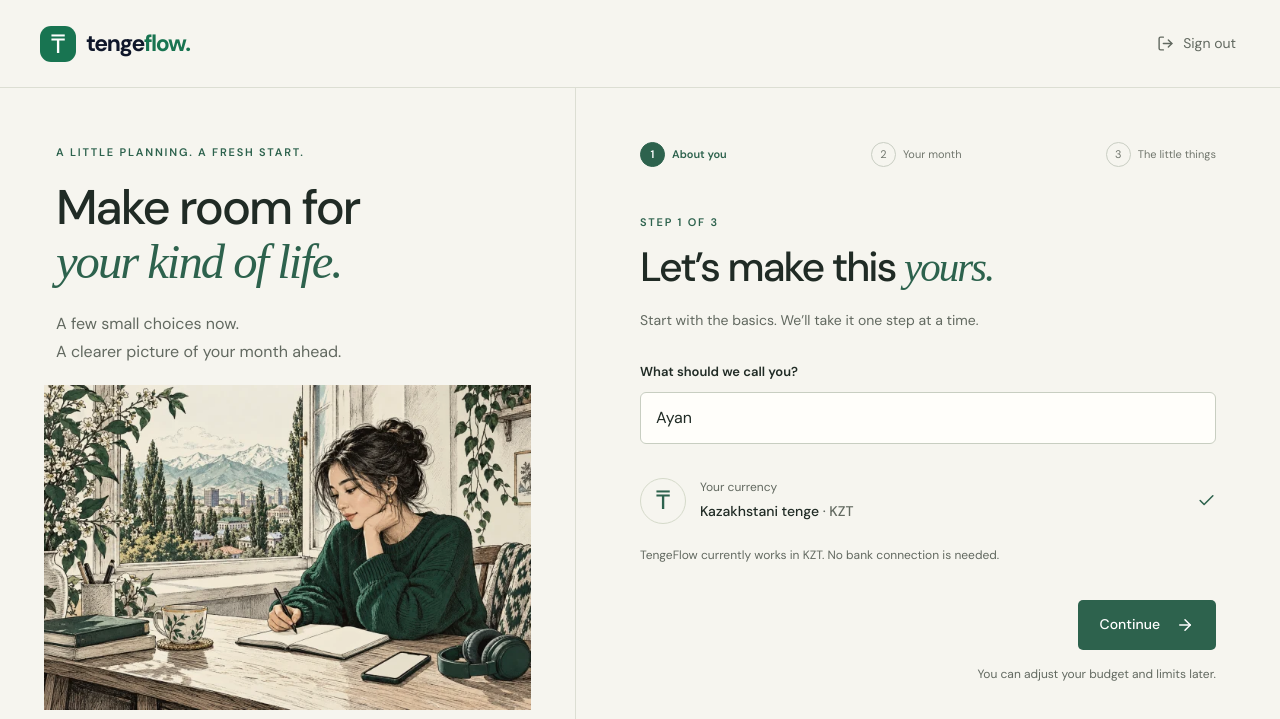
Test: retains the draft and the user's choices when saving fails
This screenshot has width=1280, height=719.
Click the button "Continue". click: [1147, 625]
box: [1078,600,1216,650]
(page scrolled)
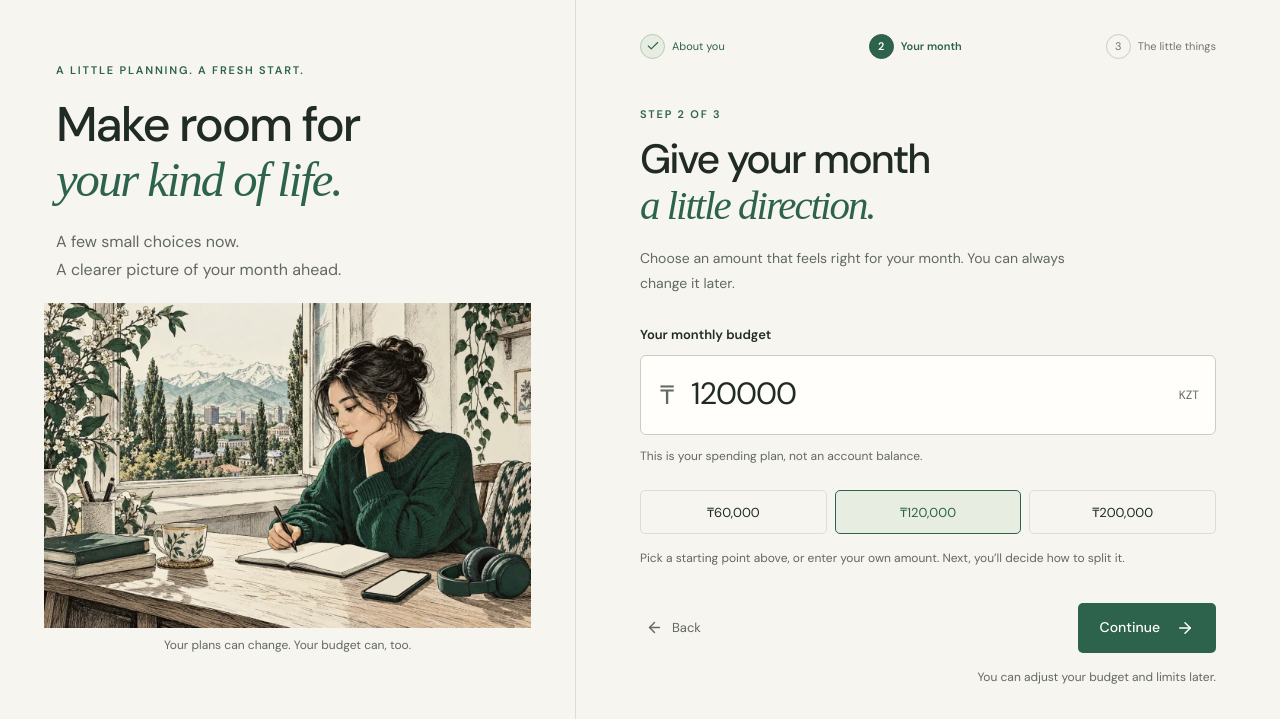
Click the button "Continue". click: [1147, 628]
box: [1078,603,1216,653]
(page scrolled)
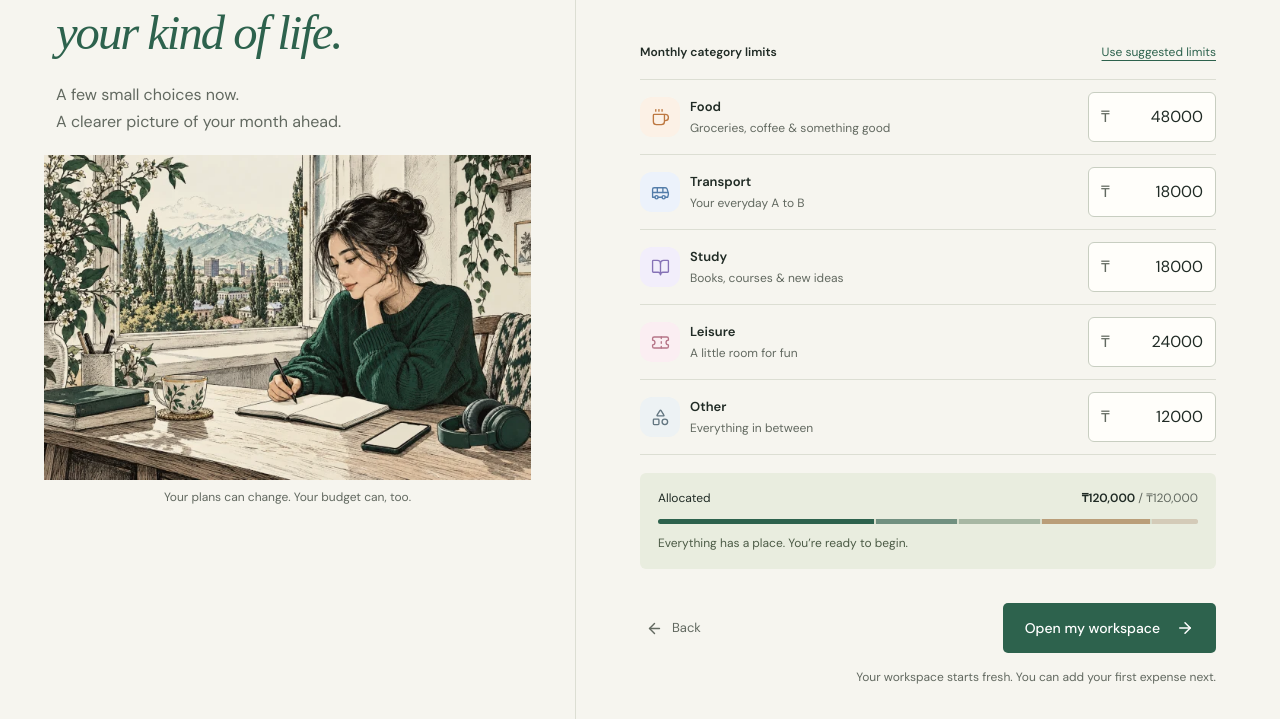
Click the button "Open my workspace". click: [1109, 628]
box: [1003,603,1216,653]
(page scrolled)
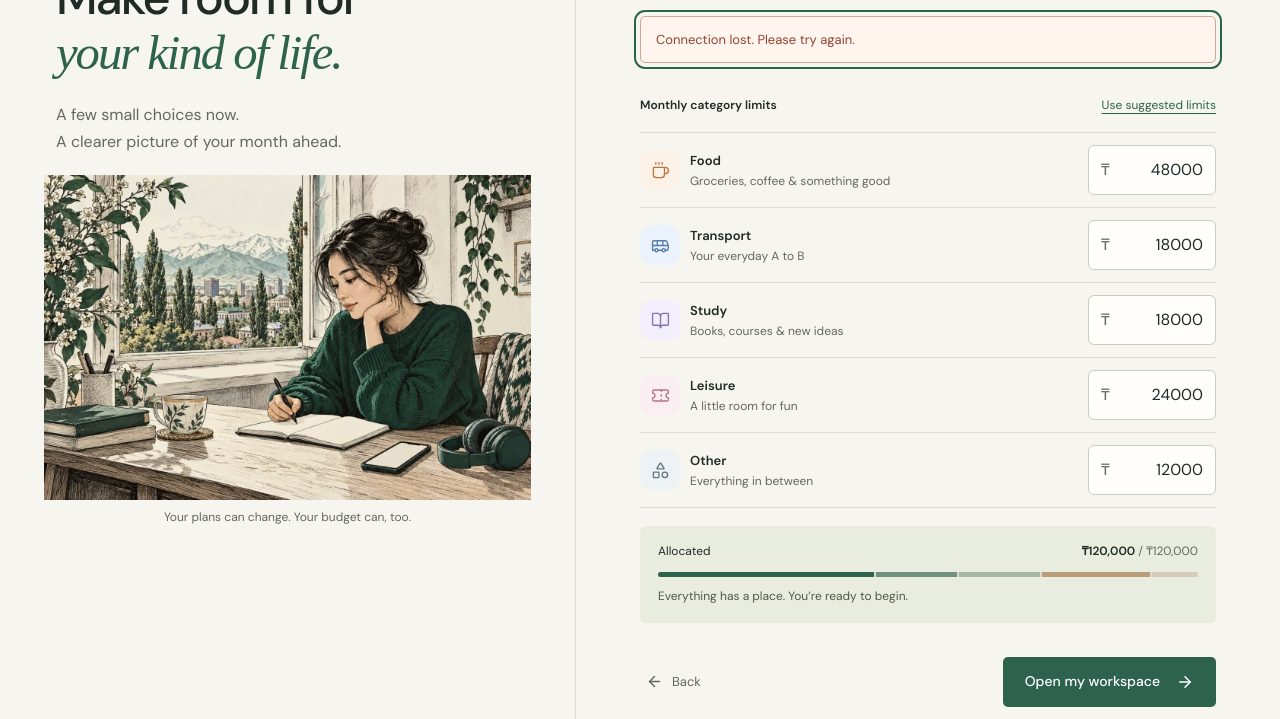
Check: the button "Open my workspace" is enabled, box [1003,657,1216,707]
Check: the field named "Food monthly limit" holds "48000", box [1088,146,1216,196]
Check: the message shows "Connection lost", box [656,31,855,48]
